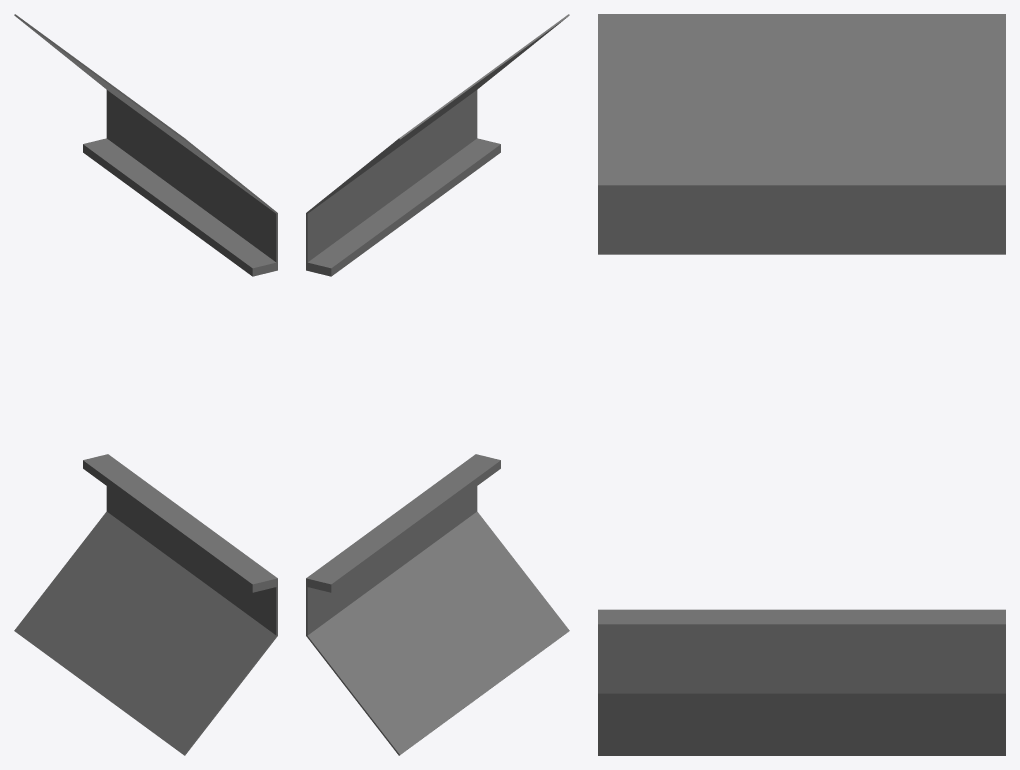
The model's file is Center_Window_Hallway.fbx.
3 renders of one model, left to right at view 1: azimuth 30°, elevation 25°; view 2: azimuth 150°, elevation 25°; view 3: azimuth 270°, elevation 25°, orthographic. The views are drawn at different scales.
Visible parts, largest first — view 1: normal Hallway.008; view 2: normal Hallway.008; view 3: normal Hallway.008.
Part boxes in pixels (x1,y1,x2,y2): normal Hallway.008: [14, 14, 277, 755]; normal Hallway.008: [306, 14, 569, 755]; normal Hallway.008: [598, 14, 1005, 755].
Bounding box in the file's own units: 63.96 × 401 × 200.
